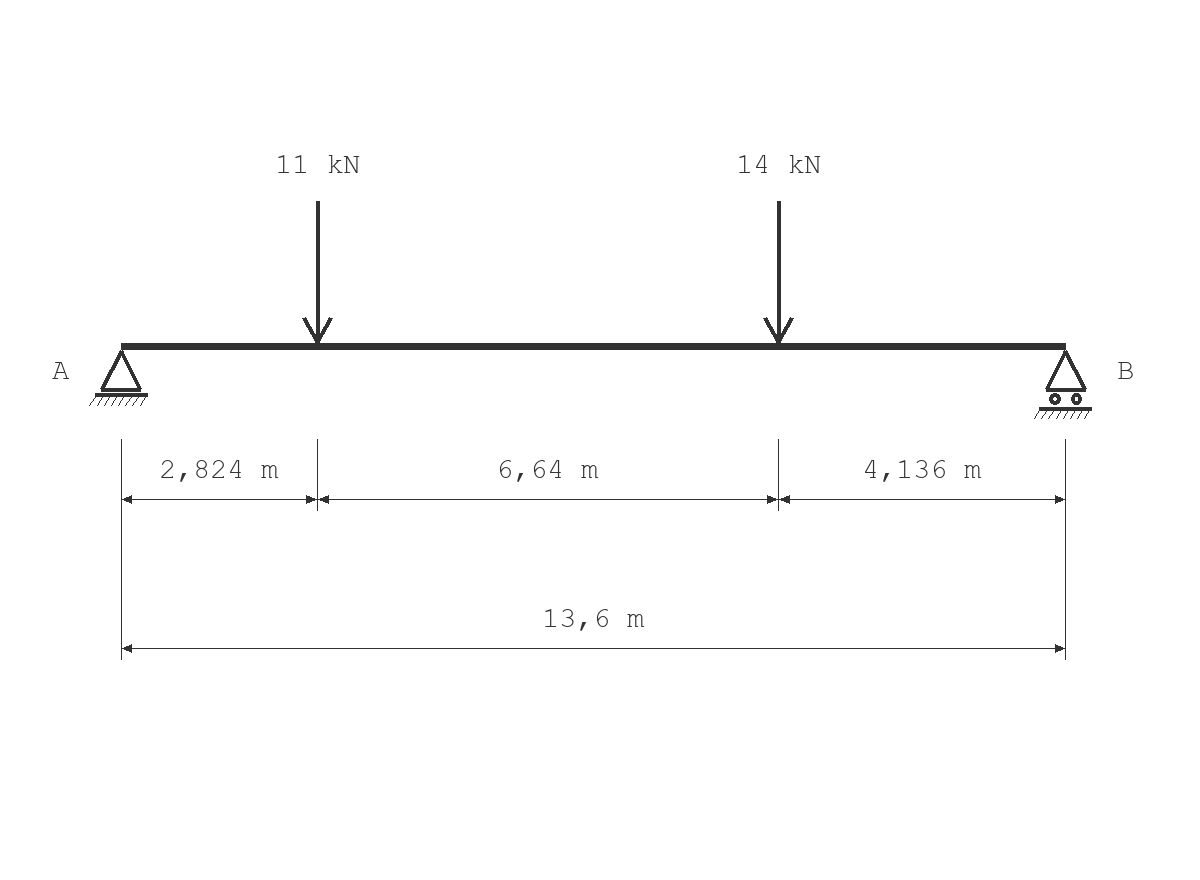pin_support: (89, 350, 148, 406)
point_load: (302, 201, 333, 344), (763, 201, 794, 344)
roller_support: (1034, 350, 1092, 419)
